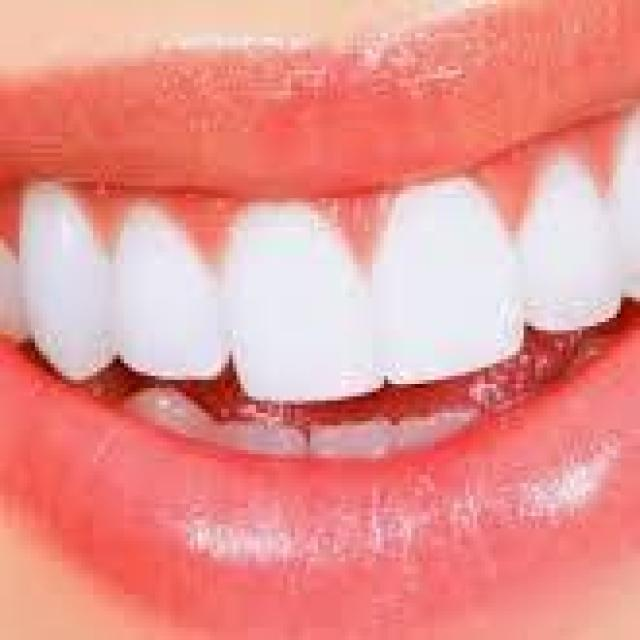tooth: (357, 173, 531, 384), (217, 194, 380, 409), (512, 144, 617, 347), (120, 194, 229, 388), (23, 194, 109, 372)
